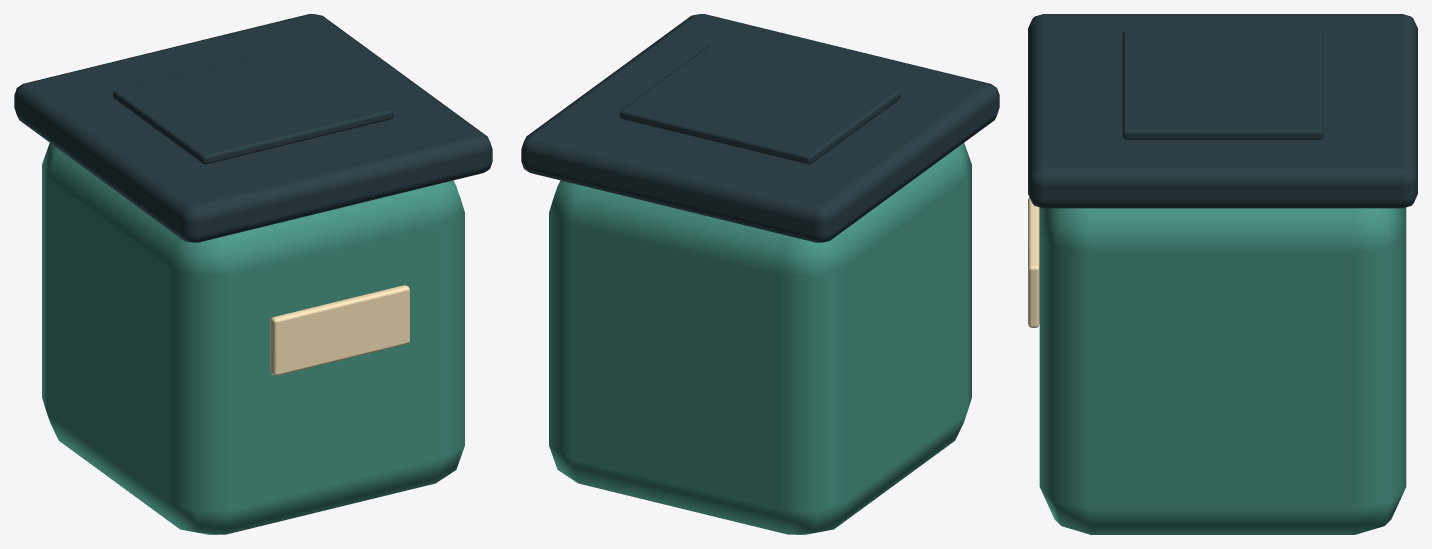
The model's file is bin.glb.
The picture shows the model from 3 angles, left to right: view 1: azimuth 30°, elevation 25°; view 2: azimuth 150°, elevation 25°; view 3: azimuth 270°, elevation 25°; orthographic projection. The views are drawn at different scales.
Visible parts, largest first — view 1: bin; view 2: bin; view 3: bin.
Part boxes in pixels (bbox=[...]): bin: bbox=[14, 14, 492, 534]; bin: bbox=[521, 14, 999, 534]; bin: bbox=[1028, 14, 1417, 534].
Size of the model in its own units: 0.68 by 0.765 by 0.68.
